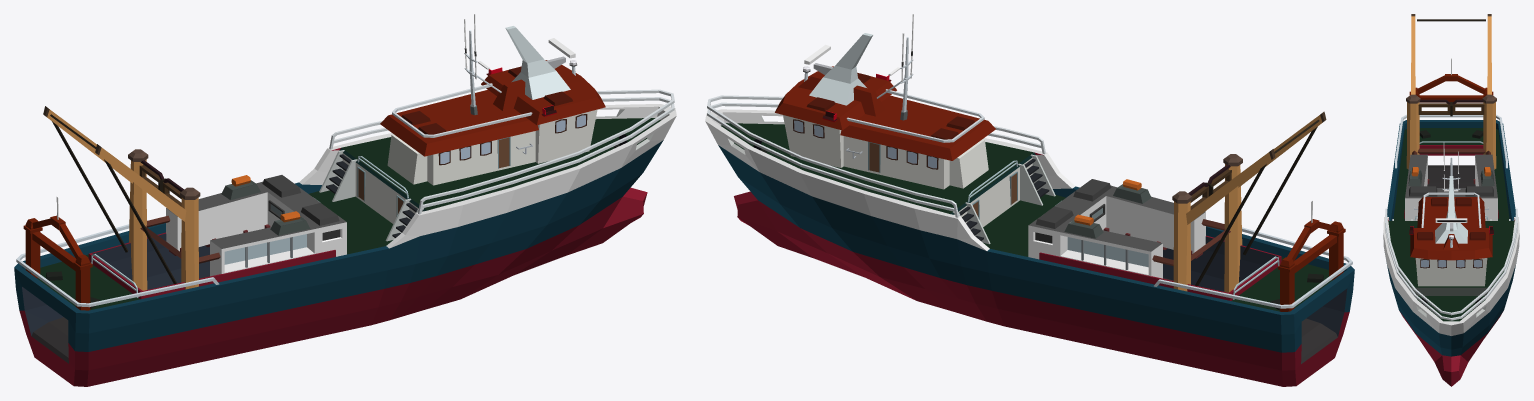
The model's file is trawler.lod0.glb.
The picture shows the model from 3 angles, left to right: view 1: azimuth 30°, elevation 25°; view 2: azimuth 150°, elevation 25°; view 3: azimuth 270°, elevation 25°; orthographic projection. The views are drawn at different scales.
Parts seen in each view (by area): view 1: Trawler_Colour Palette_0; view 2: Trawler_Colour Palette_0; view 3: Trawler_Colour Palette_0.
Boxes of the visible parts, x1,y1,x2,y2 form: Trawler_Colour Palette_0: [14, 14, 676, 386]; Trawler_Colour Palette_0: [705, 14, 1354, 386]; Trawler_Colour Palette_0: [1383, 14, 1519, 386].
Size of the model in its own units: 20 by 8.22 by 5.09.
Materials: 1 (1 with a texture image).
